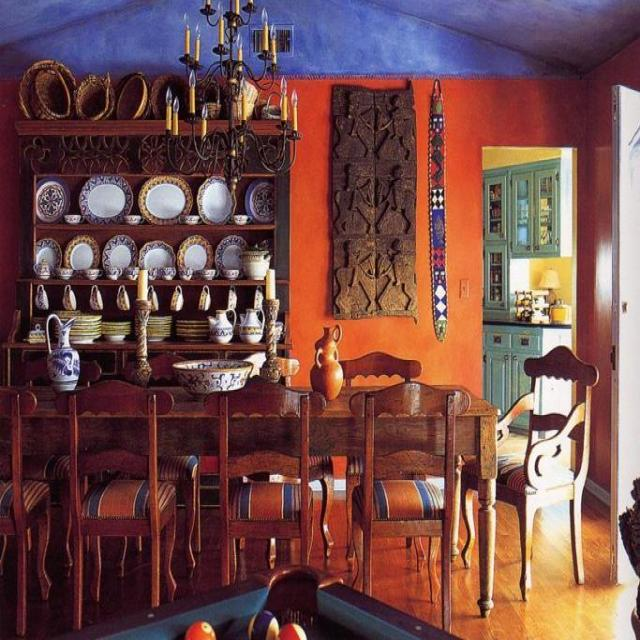chair: (459, 344, 599, 600)
curtains: (329, 80, 418, 321)
door: (608, 83, 639, 585)
pots: (309, 324, 343, 400)
shelves: (7, 114, 295, 386)
table: (0, 376, 500, 621)
